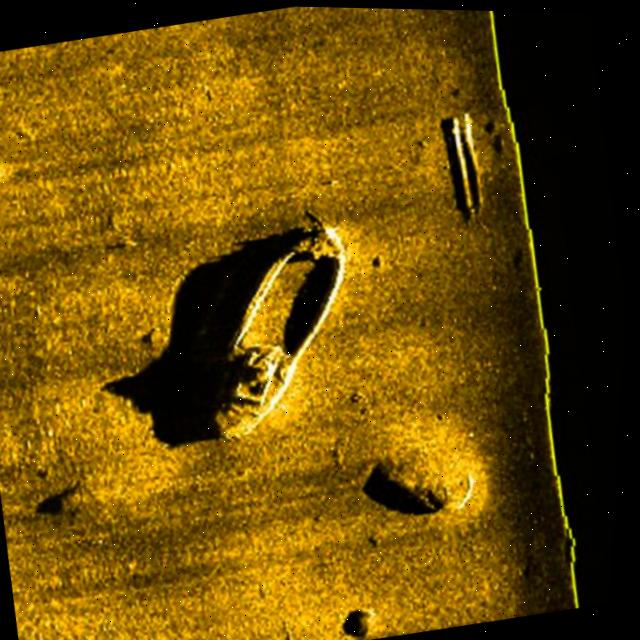shipwreck: (182, 201, 392, 449)
